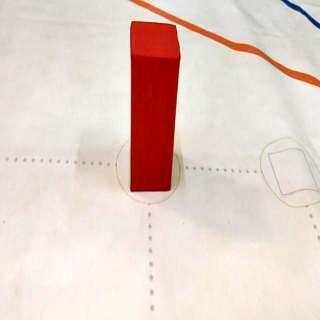redbox: (130, 20, 182, 192)
